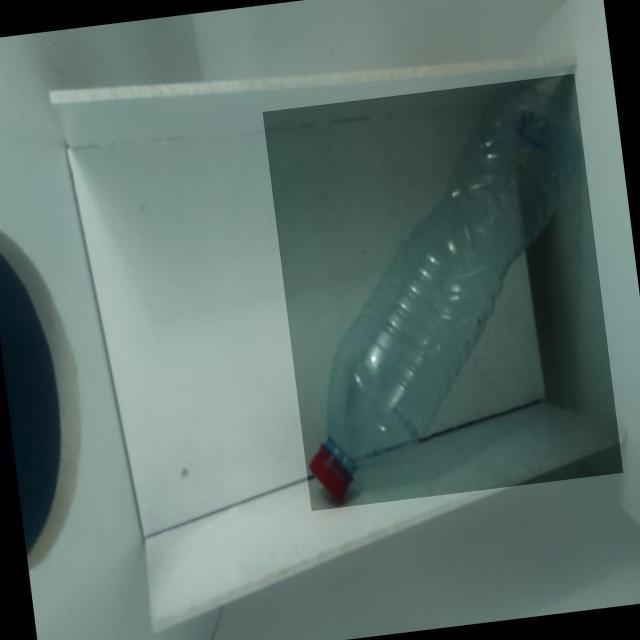good: (262, 73, 623, 510)
